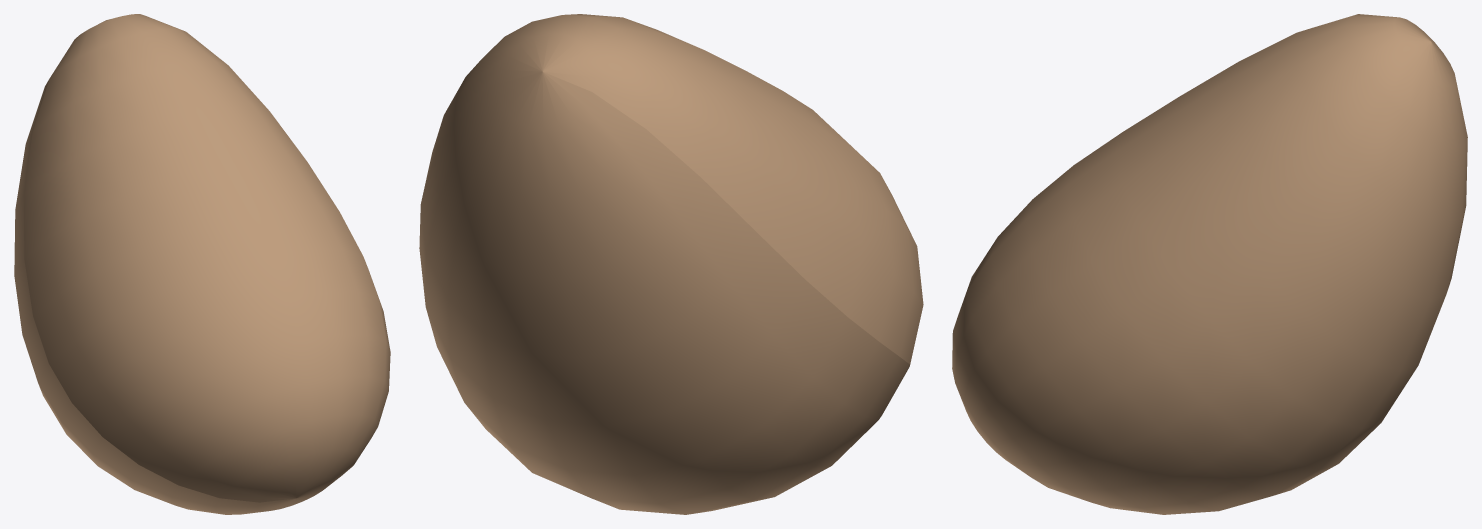
The model's file is foot_feline.glb.
3 views of the same model, side by side, from view 1: azimuth 30°, elevation 25°; view 2: azimuth 150°, elevation 25°; view 3: azimuth 270°, elevation 25° (orthographic). The views are drawn at different scales.
Parts seen in each view (by area): view 1: CombinedMesh_MaterialSlots; view 2: CombinedMesh_MaterialSlots; view 3: CombinedMesh_MaterialSlots.
Part boxes in pixels (<box>): CombinedMesh_MaterialSlots: <box>14,14,390,514</box>; CombinedMesh_MaterialSlots: <box>419,14,923,514</box>; CombinedMesh_MaterialSlots: <box>952,14,1467,514</box>.
Size of the model in its own units: 1.67 by 2.1 by 2.08.
